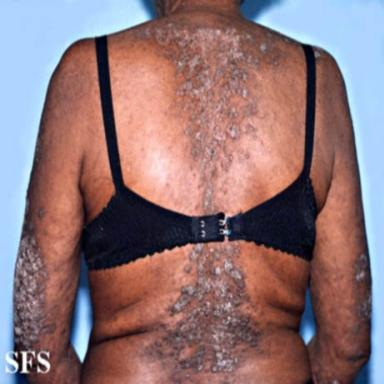Darier_s-Disease: (126, 18, 294, 214), (134, 243, 281, 384), (13, 188, 58, 350), (352, 247, 371, 329)
